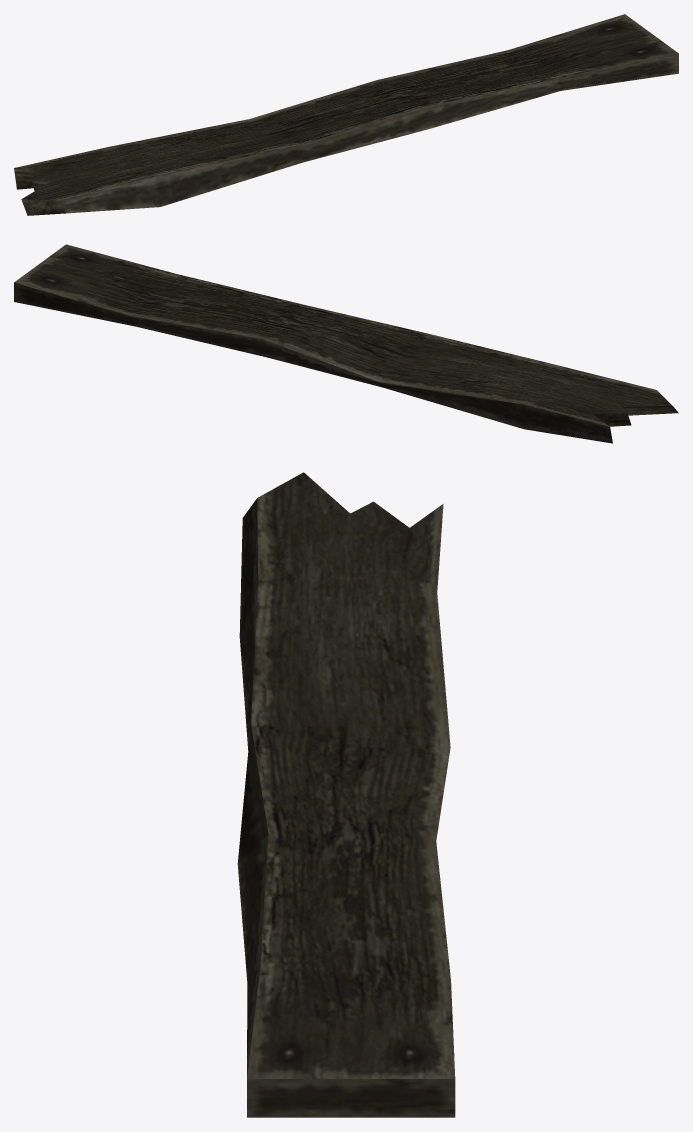
Rendered from plank_4.5m_broken.dae.
3 renders of one model, top to bottom at view 1: azimuth 30°, elevation 25°; view 2: azimuth 150°, elevation 25°; view 3: azimuth 270°, elevation 25°, orthographic. The views are drawn at different scales.
Parts seen in each view (by area): view 1: polySurface35; view 2: polySurface35; view 3: polySurface35.
Boxes of the visible parts, x1,y1,x2,y2 form: polySurface35: (14,14,678,215); polySurface35: (14,244,678,443); polySurface35: (237,472,455,1117).
Bounding box in the file's own units: 3.29 × 0.1652 × 0.4984.
